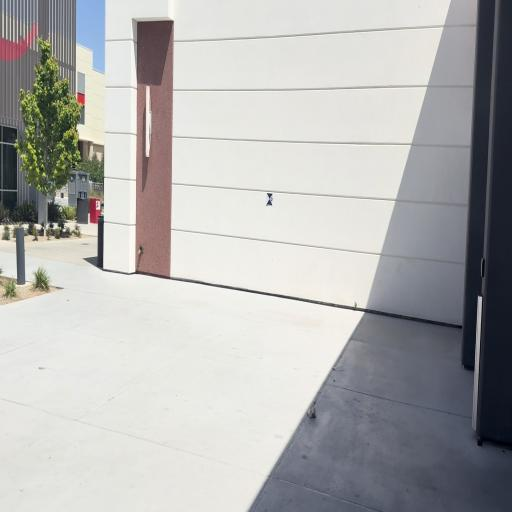target0: (266, 192, 273, 206)
